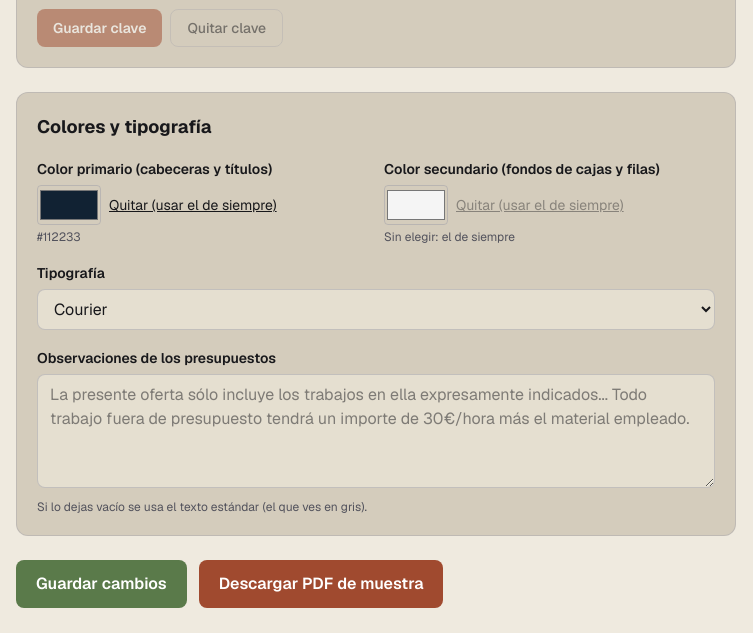
Test: Ajustes de marca con negocio real › enseña el error del servidor si no se puede guardar
This screenshot has width=753, height=633.
(page scrolled)
Step 1. Click the button "Guardar cambios" → (101, 584), box [16,560,187,608]
(page scrolled)
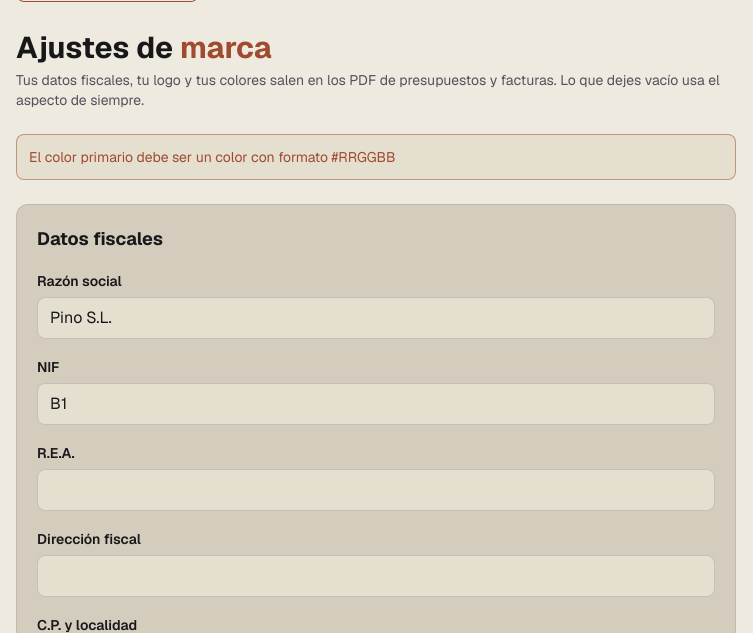
Result: the message shows "#RRGGBB" at [29,148,396,166]
